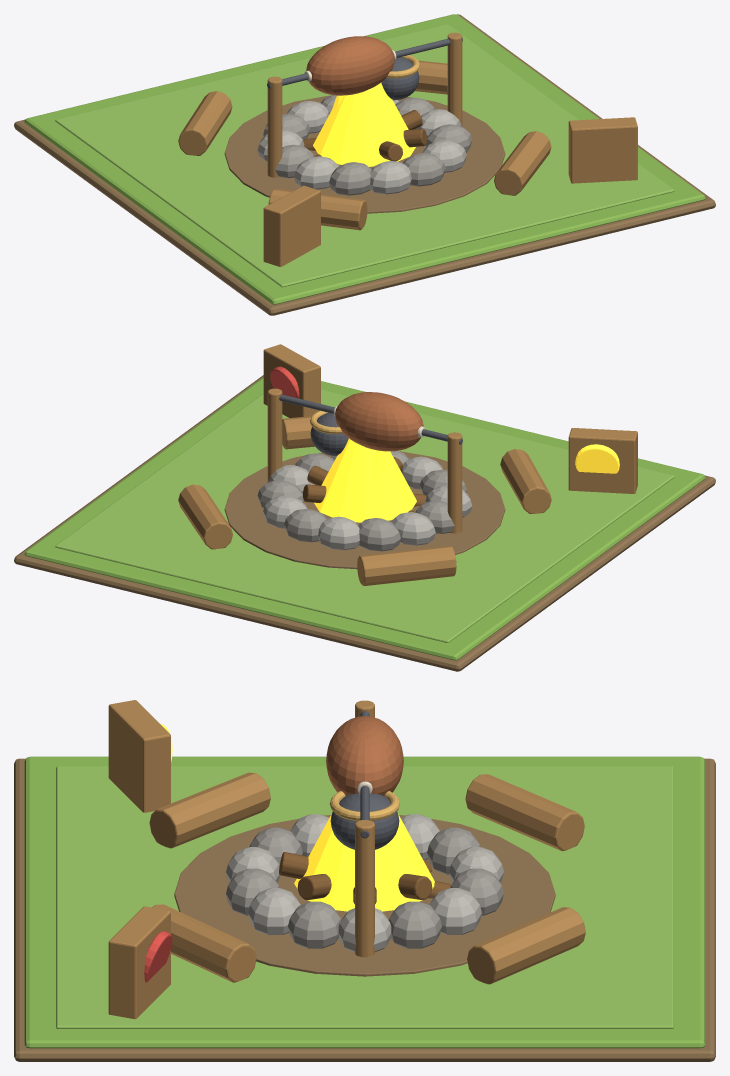
The model's file is army_camp_lv3.glb.
The picture shows the model from 3 angles, top to bottom: view 1: azimuth 30°, elevation 25°; view 2: azimuth 150°, elevation 25°; view 3: azimuth 270°, elevation 25°; orthographic projection. The views are drawn at different scales.
Visible parts, largest first — view 1: Base_Inner, Base_Grass, Base_Dirt, CampDirtPatch, FlameOuter, CampRackFrame_1, RoastMeat, CampRackFrame_-1, LogBench_5.45, LogBench_2.35, LogBench_3.90, SpitPost_-1 (+17 smaller); view 2: Base_Inner, Base_Grass, Base_Dirt, CampDirtPatch, FlameOuter, RoastMeat, CampRackFrame_-1, LogBench_2.35, CampRackFrame_1, LogBench_0.80, LogBench_3.90, SpitPost_-1 (+17 smaller); view 3: Base_Inner, Base_Grass, CampDirtPatch, Base_Dirt, CampRackFrame_-1, FlameOuter, LogBench_3.90, LogBench_2.35, LogBench_0.80, CampRackFrame_1, RoastMeat, LogBench_5.45 (+20 smaller).
Boxes of the visible parts, x1,y1,x2,y2 form: Base_Inner: (55,24,674,287); Base_Grass: (24,14,705,304); Base_Dirt: (14,14,715,315); CampDirtPatch: (224,95,505,213); FlameOuter: (313,82,415,166); CampRackFrame_1: (568,117,637,183); RoastMeat: (306,36,394,95); CampRackFrame_-1: (263,185,320,266); LogBench_5.45: (494,131,551,195); LogBench_2.35: (178,91,232,155); LogBench_3.90: (268,188,367,230); SpitPost_-1: (267,76,282,177); Base_Inner: (55,389,674,642); Base_Grass: (24,377,705,660); Base_Dirt: (14,375,715,671); CampDirtPatch: (224,451,505,569); FlameOuter: (314,438,416,522); RoastMeat: (335,392,423,451); CampRackFrame_-1: (568,428,637,493); LogBench_2.35: (357,545,456,585); CampRackFrame_1: (263,344,320,417); LogBench_0.80: (178,484,232,549); LogBench_3.90: (500,449,551,513); SpitPost_-1: (447,432,462,533); Base_Inner: (56,766,673,1028); Base_Grass: (24,756,705,1048); CampDirtPatch: (174,815,555,976); Base_Dirt: (14,758,715,1061); CampRackFrame_-1: (108,700,170,812); FlameOuter: (294,814,434,911); LogBench_3.90: (149,772,270,848); LogBench_2.35: (465,774,584,851); LogBench_0.80: (467,907,585,984); CampRackFrame_1: (108,906,170,1019); RoastMeat: (326,716,403,795); LogBench_5.45: (152,904,256,982).
Size of the model in its own units: 3.68 by 1.04 by 3.68.
